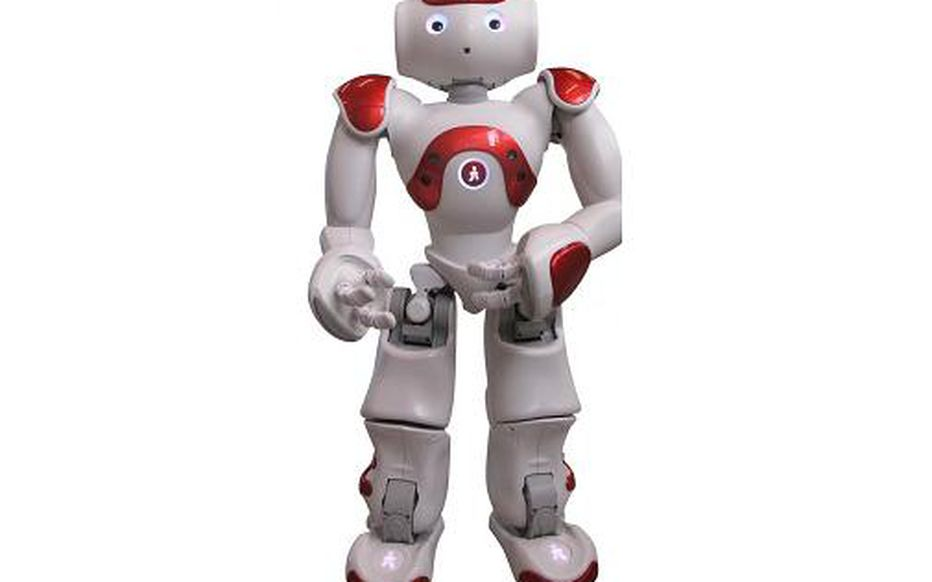nao: (313, 1, 634, 582)
